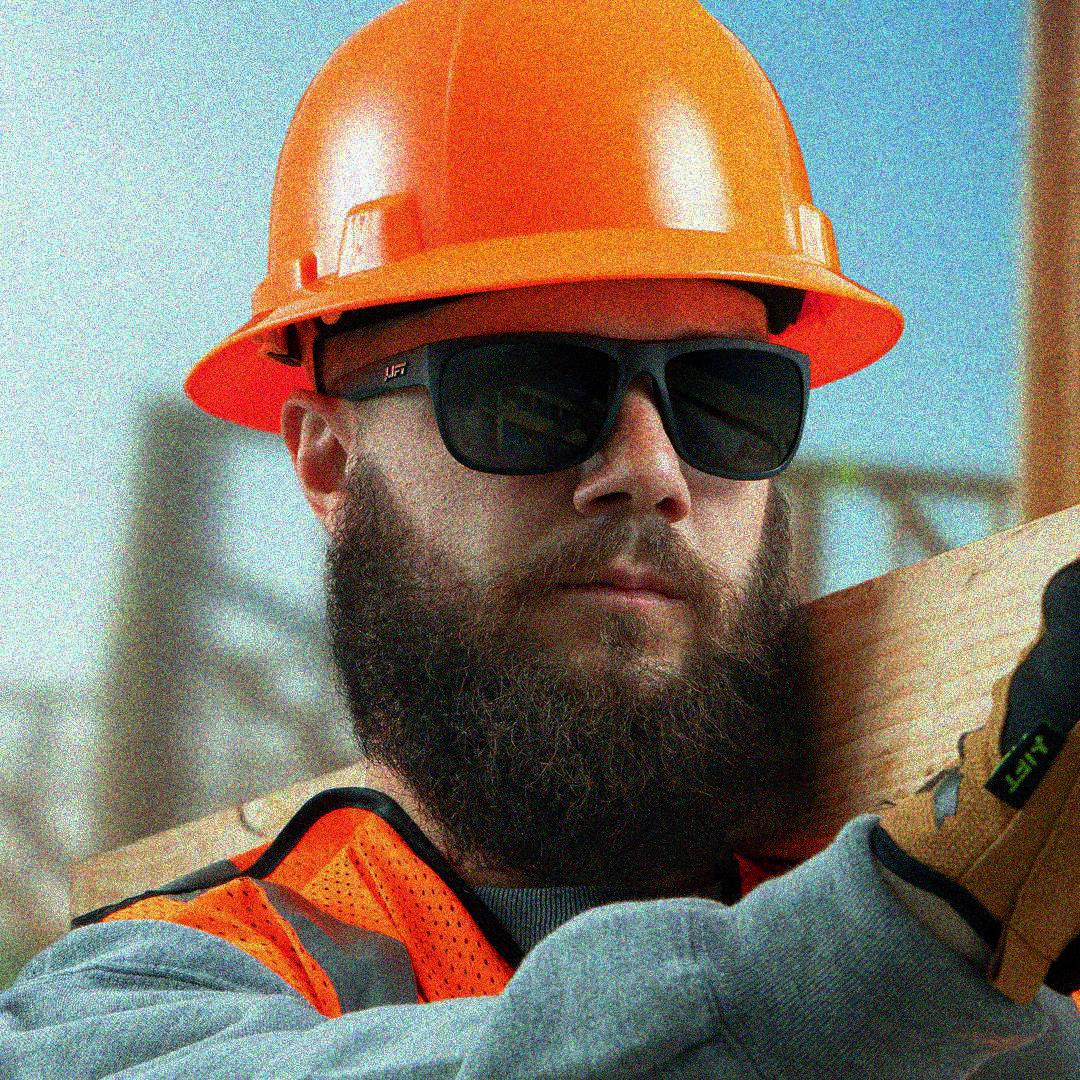helmet: (185, 1, 912, 865)
